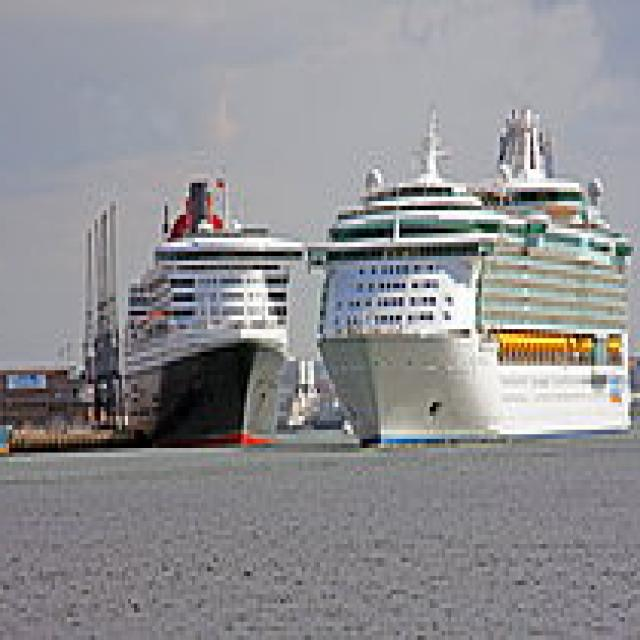Cruise: (308, 96, 637, 453), (125, 165, 308, 448)
